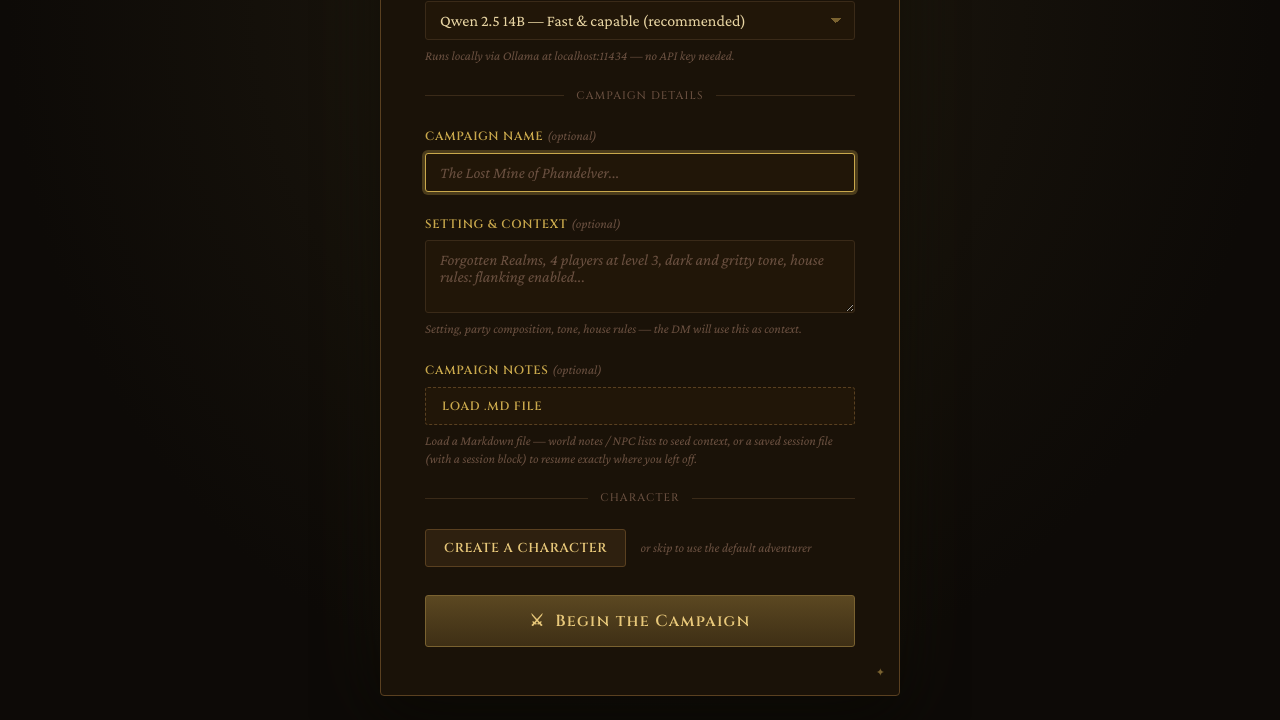
Test: CampaignSetup — Character section › clicking "Create a Character" opens the wizard
This screenshot has width=1280, height=720.
(page scrolled)
Click the button "Create a Character".
click(526, 548)  # box [425,529,626,567]
(page scrolled)
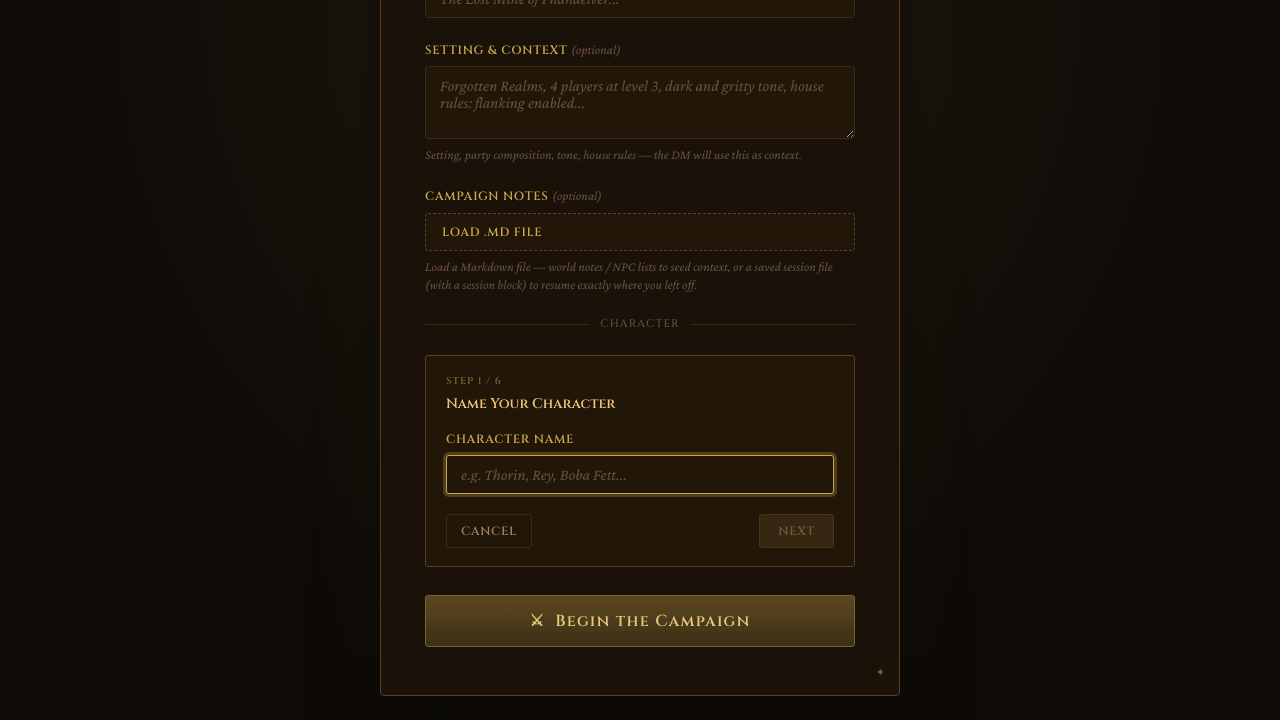
Result: the dialog named "Character Creation Wizard" is shown at [425,355,855,567]
